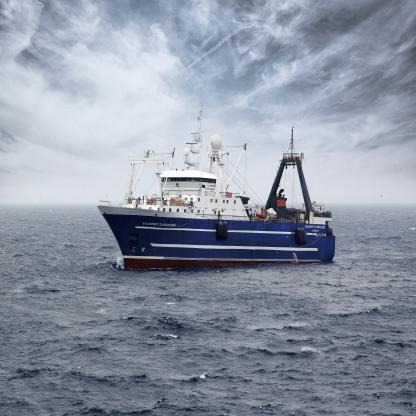fish-b: (95, 97, 341, 278)
